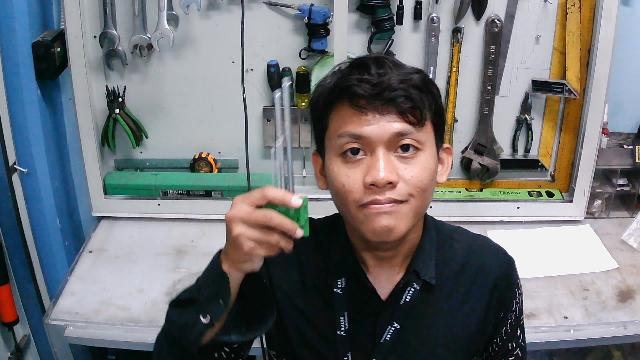kunci_l_bintang: (263, 66, 317, 253)
